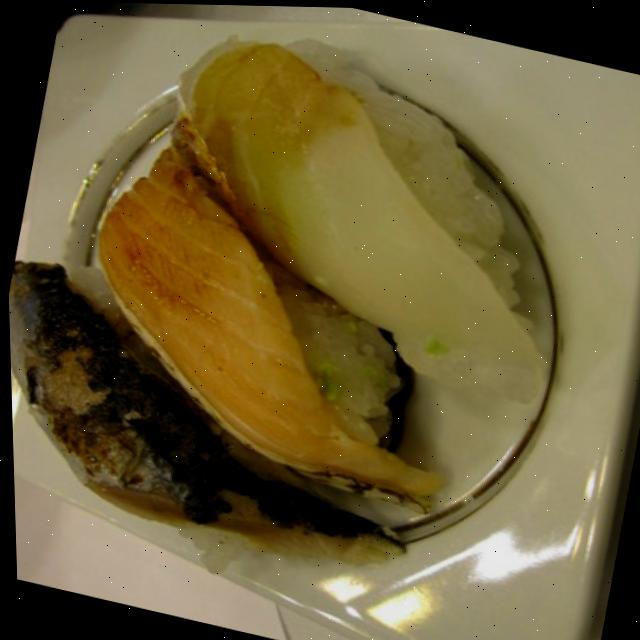寿司卷物: (0, 13, 537, 623)
